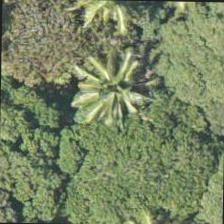Kelapa_Sawit: (67, 38, 159, 130), (61, 0, 153, 54)
